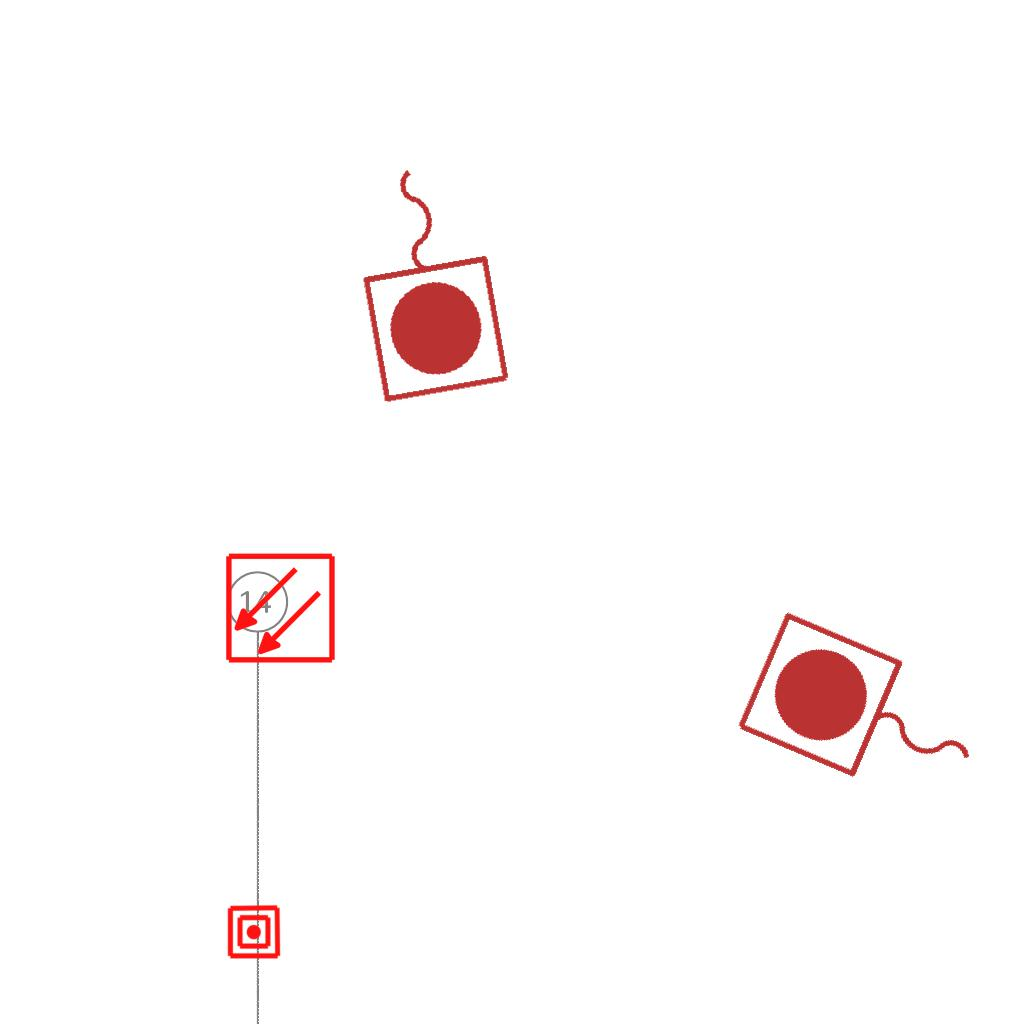NAM-Nichtautomatischer_Melder: (226, 904, 282, 960)
RMO_Rauchmelder_optischer: (224, 552, 337, 665)
Zugtaster: (725, 602, 1007, 830), (336, 146, 522, 412)
